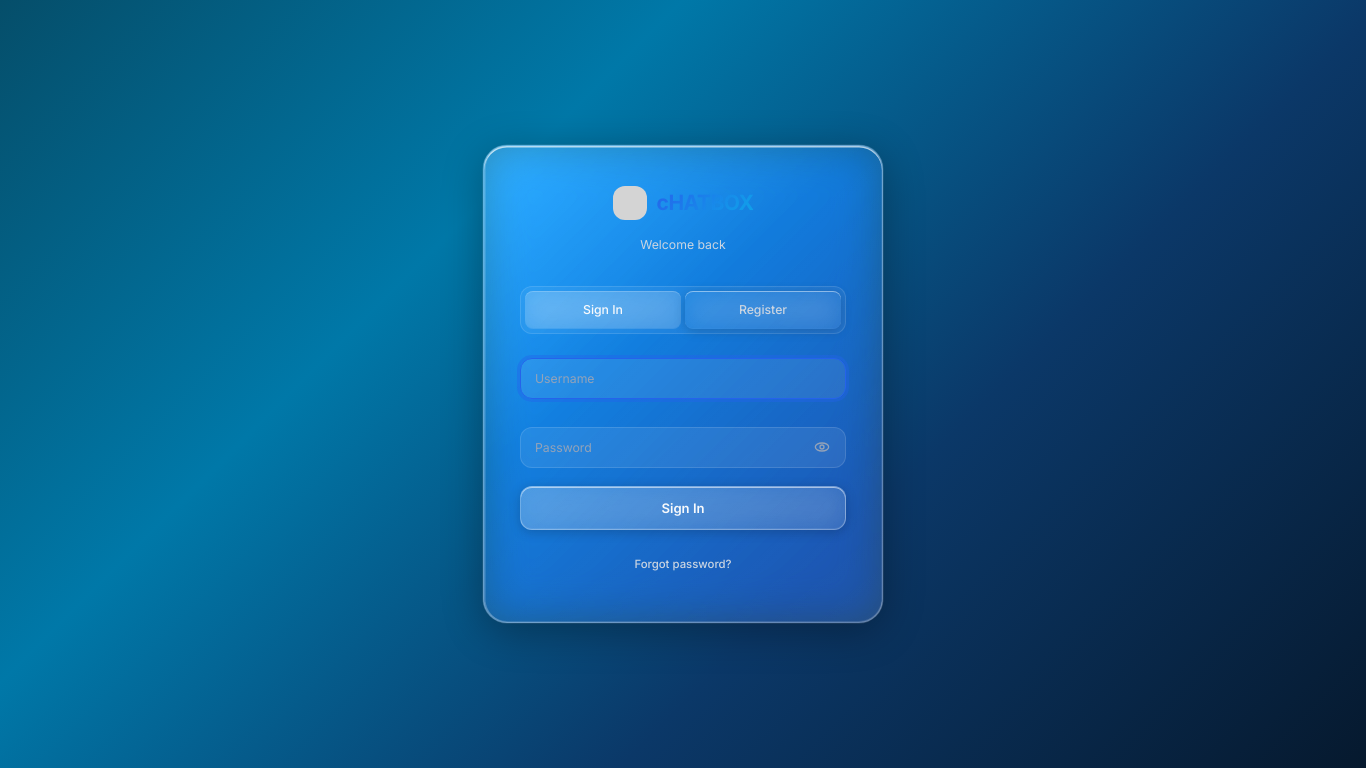
LoginPage › shows generic error when response has no detail
The image size is (1366, 768).
Step 1. Type "alice" into the field with placeholder "Username" → (683, 378), box [520, 358, 846, 399]
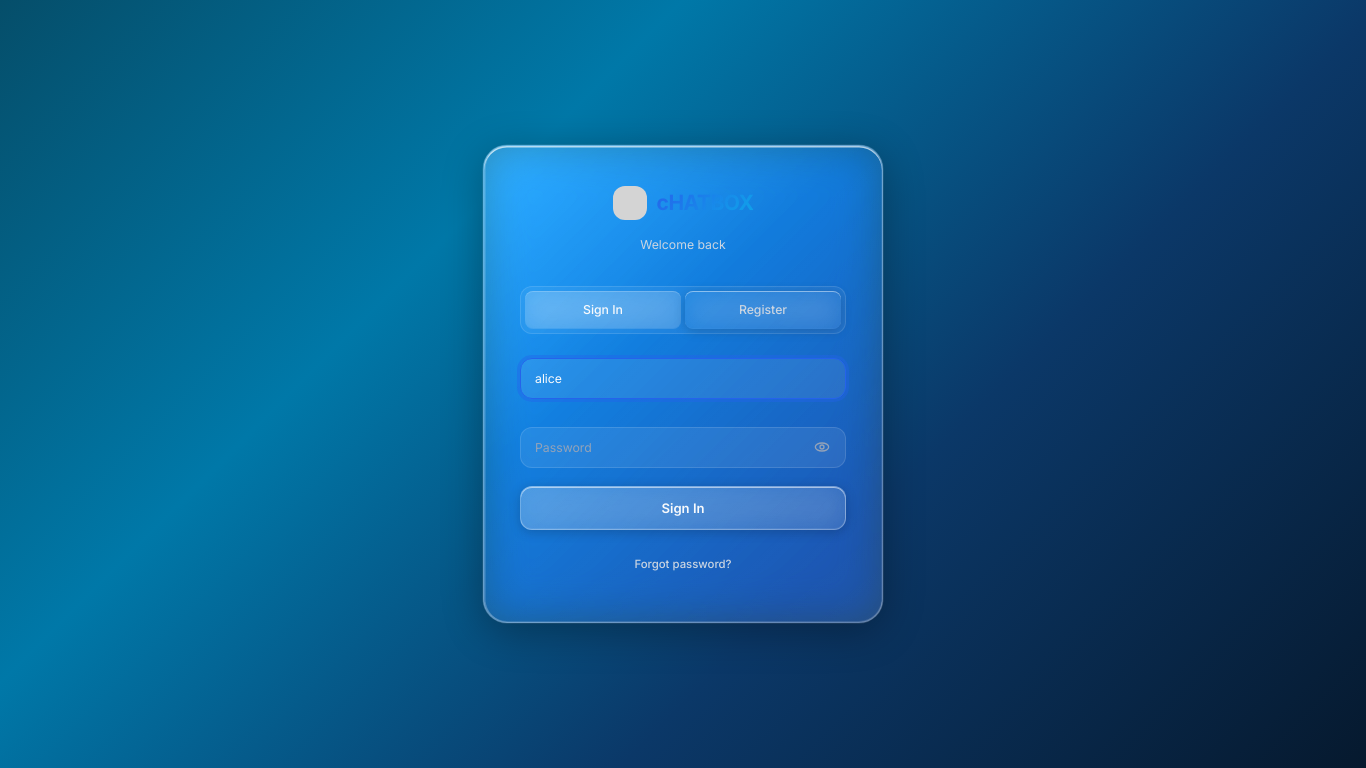
Step 2. Type "pass" into the password field with placeholder "Password" → (683, 447), box [520, 427, 846, 468]
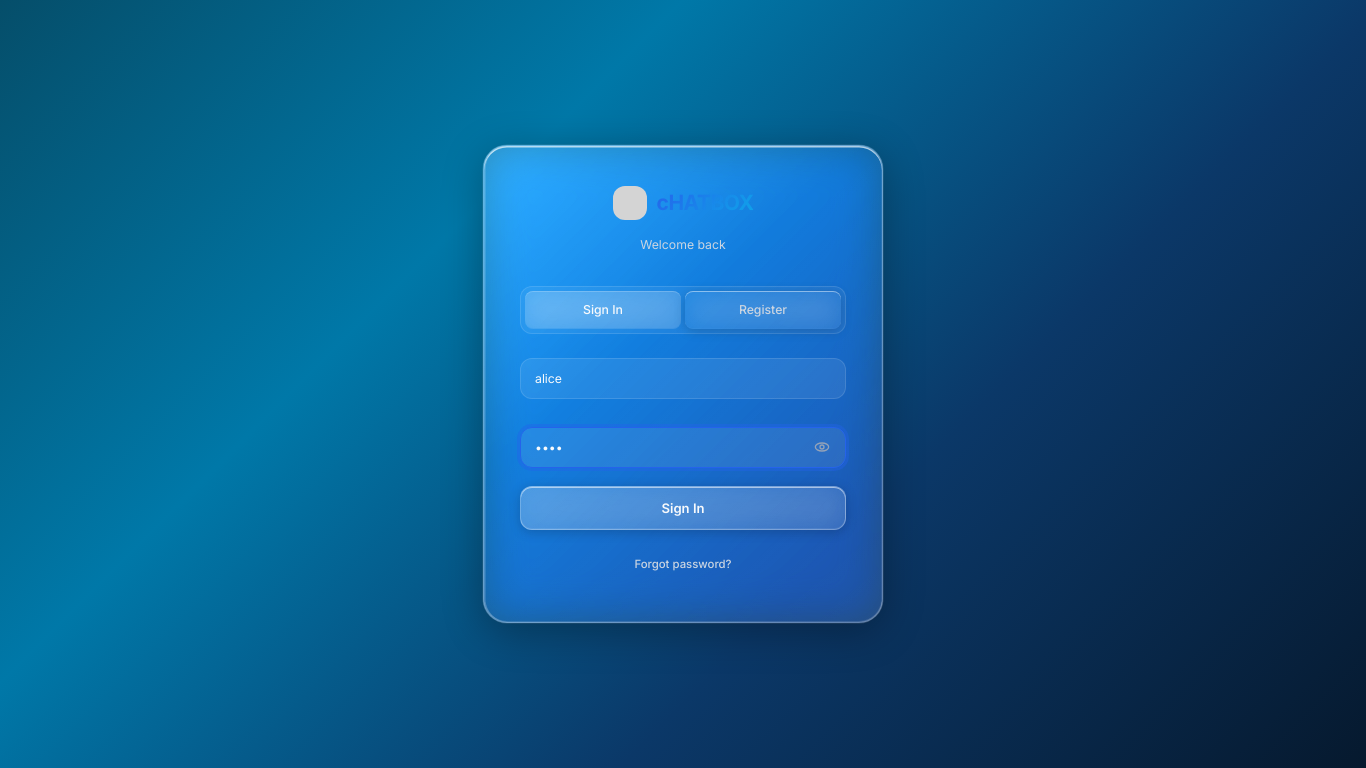
Step 3. Click the 2nd button "Sign In" → (683, 508), box [520, 486, 846, 530]
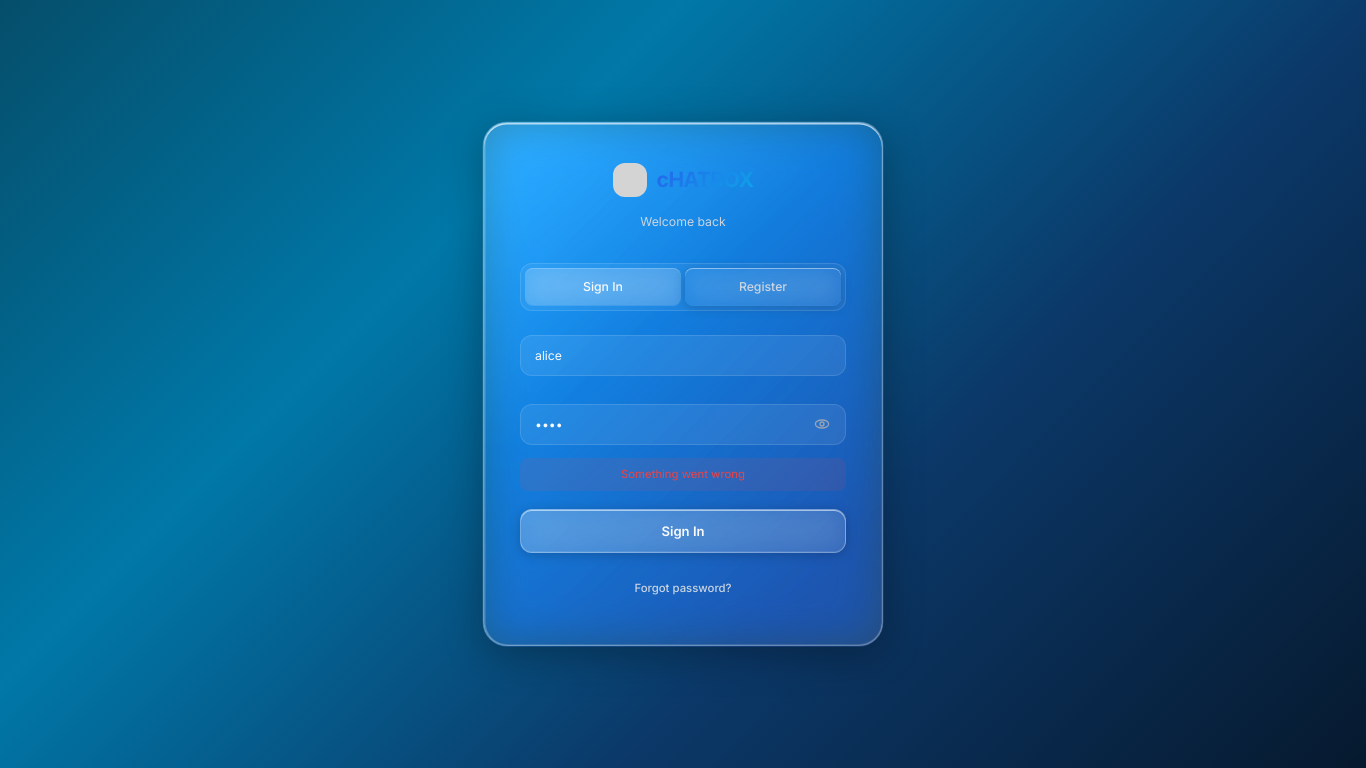
Check: the text "Something went wrong" is shown, box [520, 458, 846, 491]
